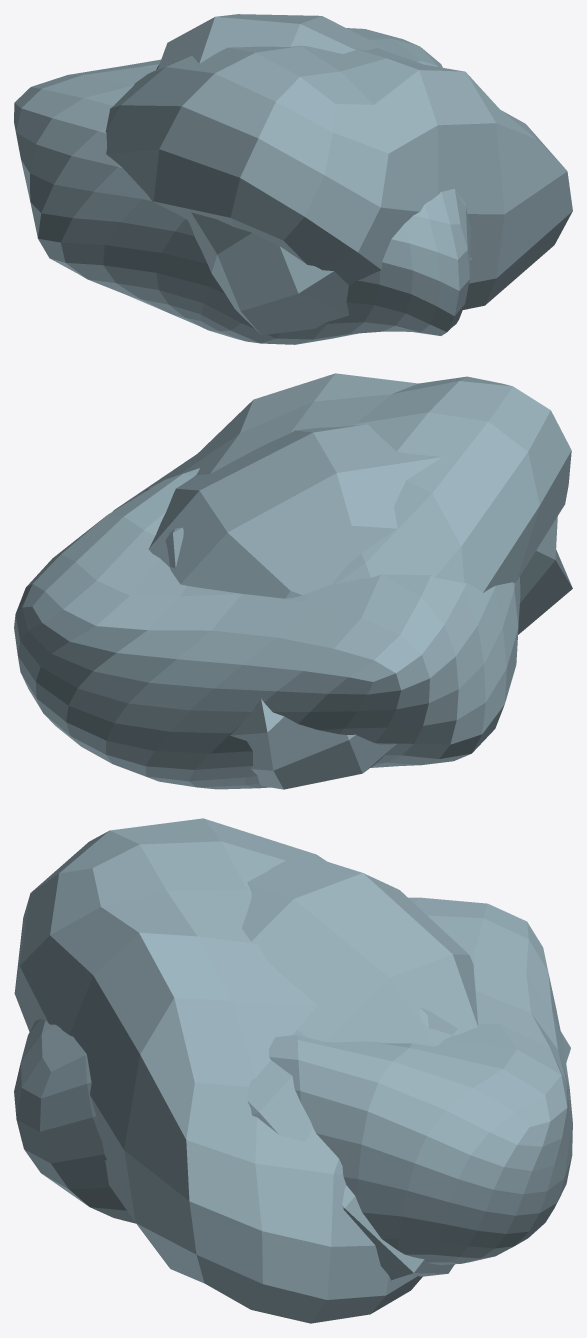
Rendered from rocks.glb.
3 views of the same model, one above another, from view 1: azimuth 30°, elevation 25°; view 2: azimuth 150°, elevation 25°; view 3: azimuth 270°, elevation 25° (orthographic). The views are drawn at different scales.
Parts seen in each view (by area): view 1: rock2, rock3, rock1; view 2: rock3, rock2, rock1; view 3: rock2, rock3, rock1.
Part boxes in pixels (x1,y1,x2,y2): rock2: (105, 45, 572, 309); rock3: (14, 28, 470, 344); rock1: (156, 14, 471, 335); rock3: (14, 468, 520, 789); rock2: (113, 373, 571, 789); rock1: (145, 424, 572, 634); rock2: (14, 818, 570, 1323); rock3: (14, 897, 572, 1264); rock1: (103, 843, 477, 1280).
Size of the model in its own units: 2.35 by 1.61 by 2.26.
3 materials, 3 textured.
